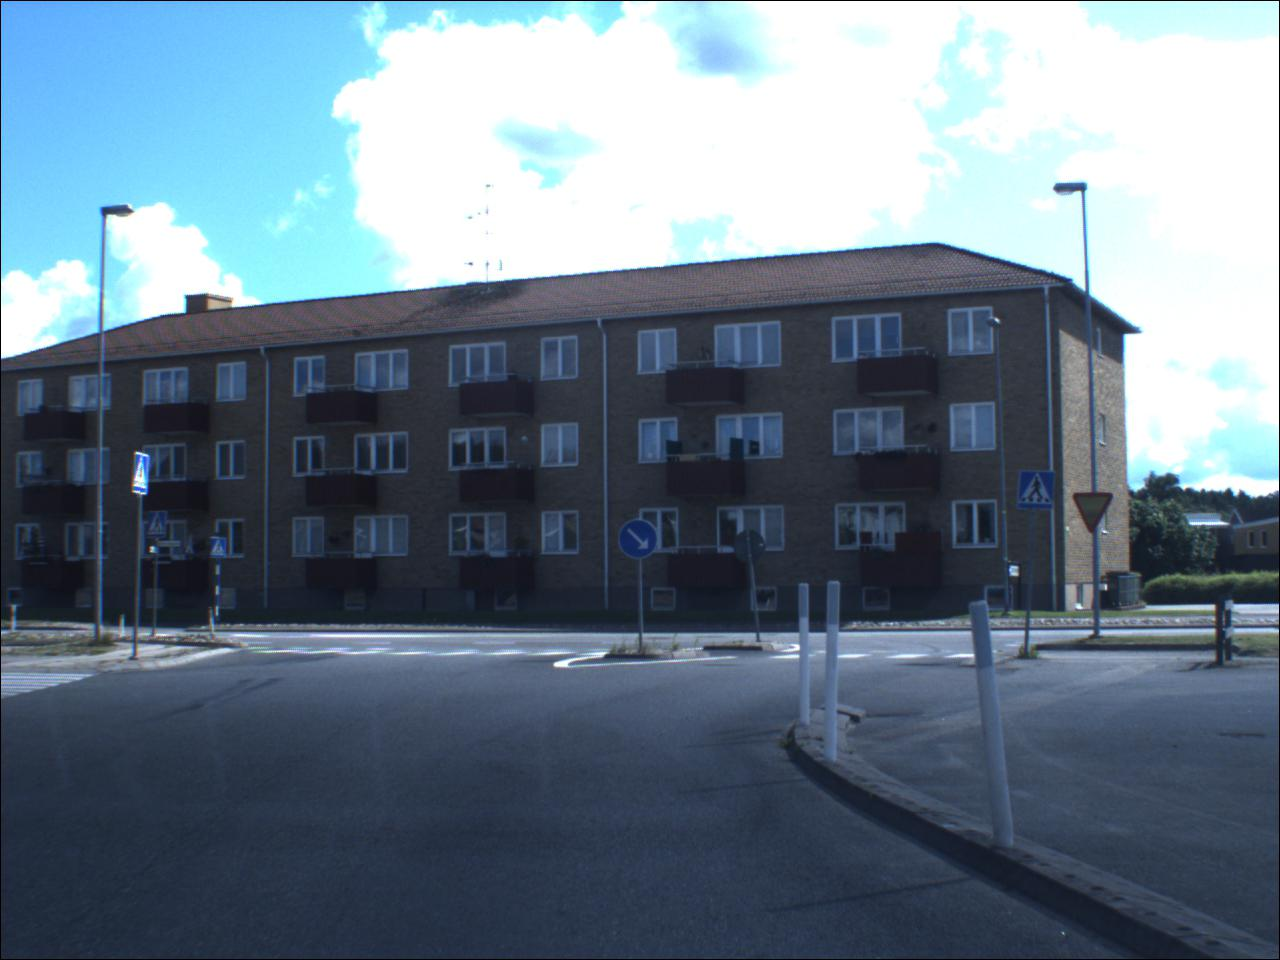GIVE_WAY: (1074, 492, 1117, 538)
PASS_RIGHT_SIDE: (620, 521, 660, 563)
PEDESTRIAN_CROSSING: (1020, 471, 1058, 513), (146, 511, 168, 539), (137, 455, 151, 498), (213, 539, 231, 561)
